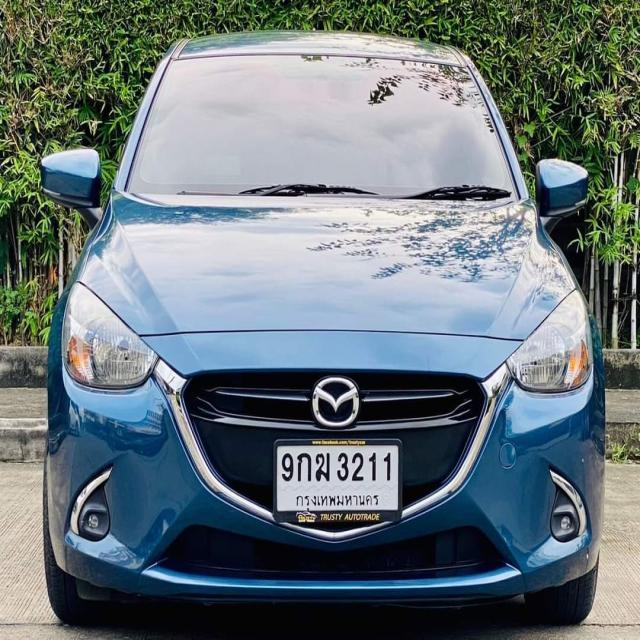license_plate: (272, 437, 404, 524)
